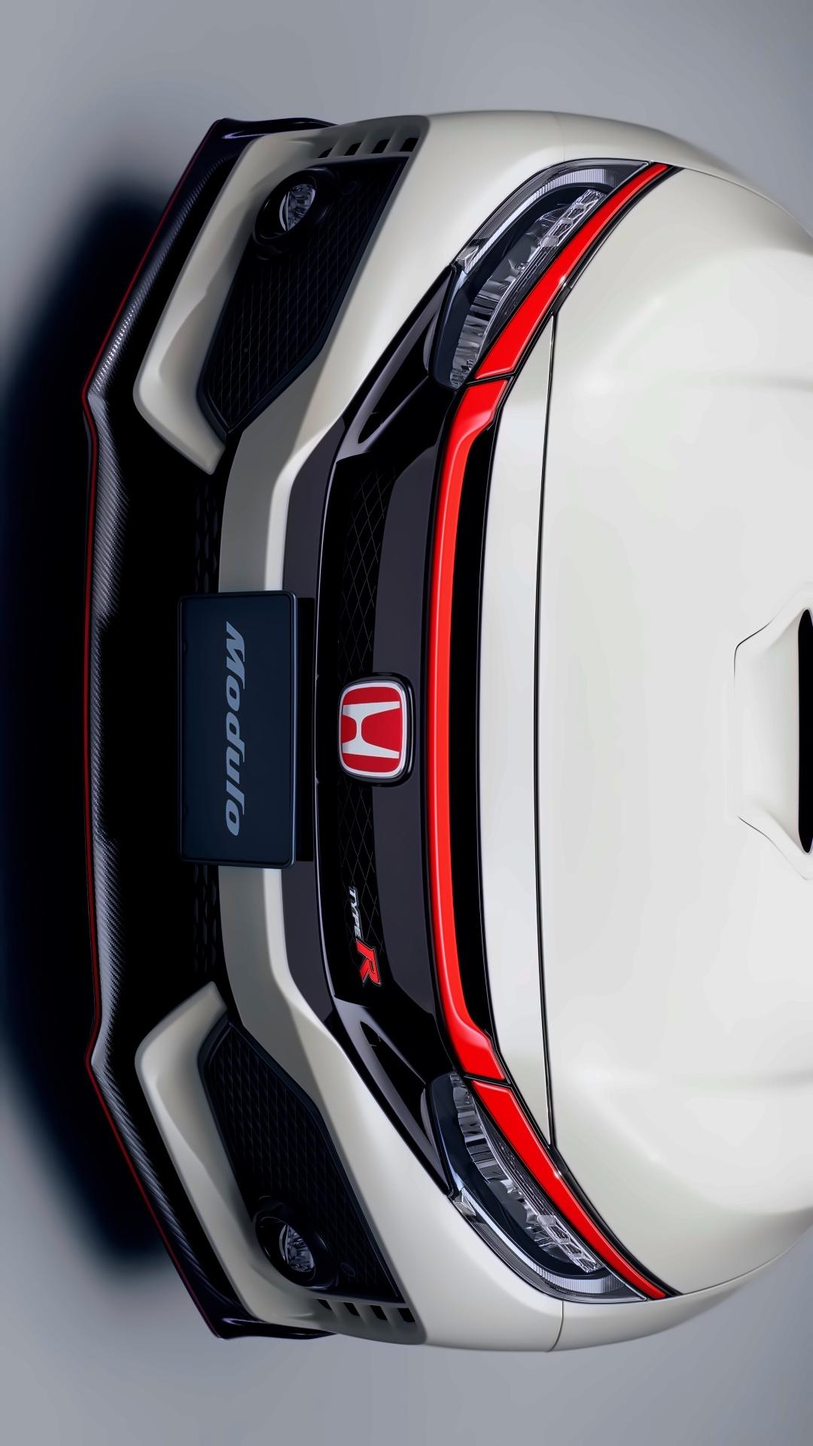Car hood: (530, 174, 813, 1305)
Front bumper: (66, 81, 558, 1356)
Headlight - -L-: (412, 1067, 672, 1307)
Headlight - -R-: (420, 153, 680, 385)
